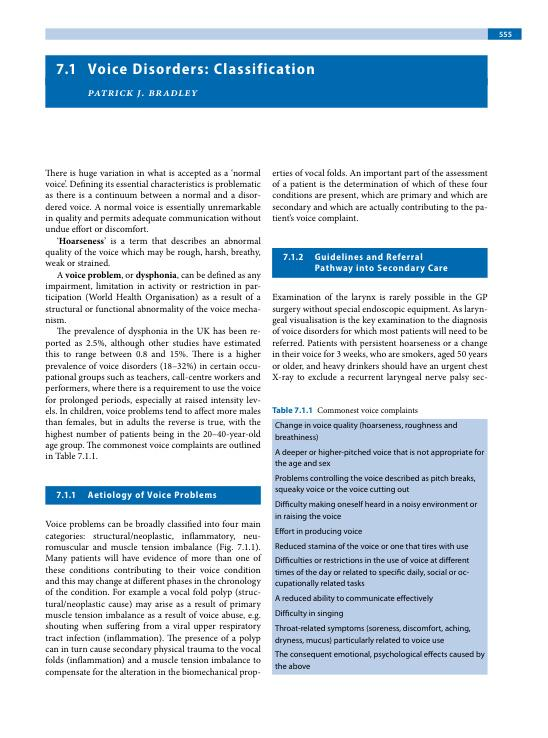caption: (271, 406, 419, 416)
chapter-heading: (85, 61, 317, 78)
section-heading: (314, 251, 449, 275), (87, 490, 217, 502)
table: (272, 418, 488, 675)
text: (43, 167, 264, 463), (44, 519, 262, 679), (271, 292, 489, 384), (271, 167, 489, 225)
